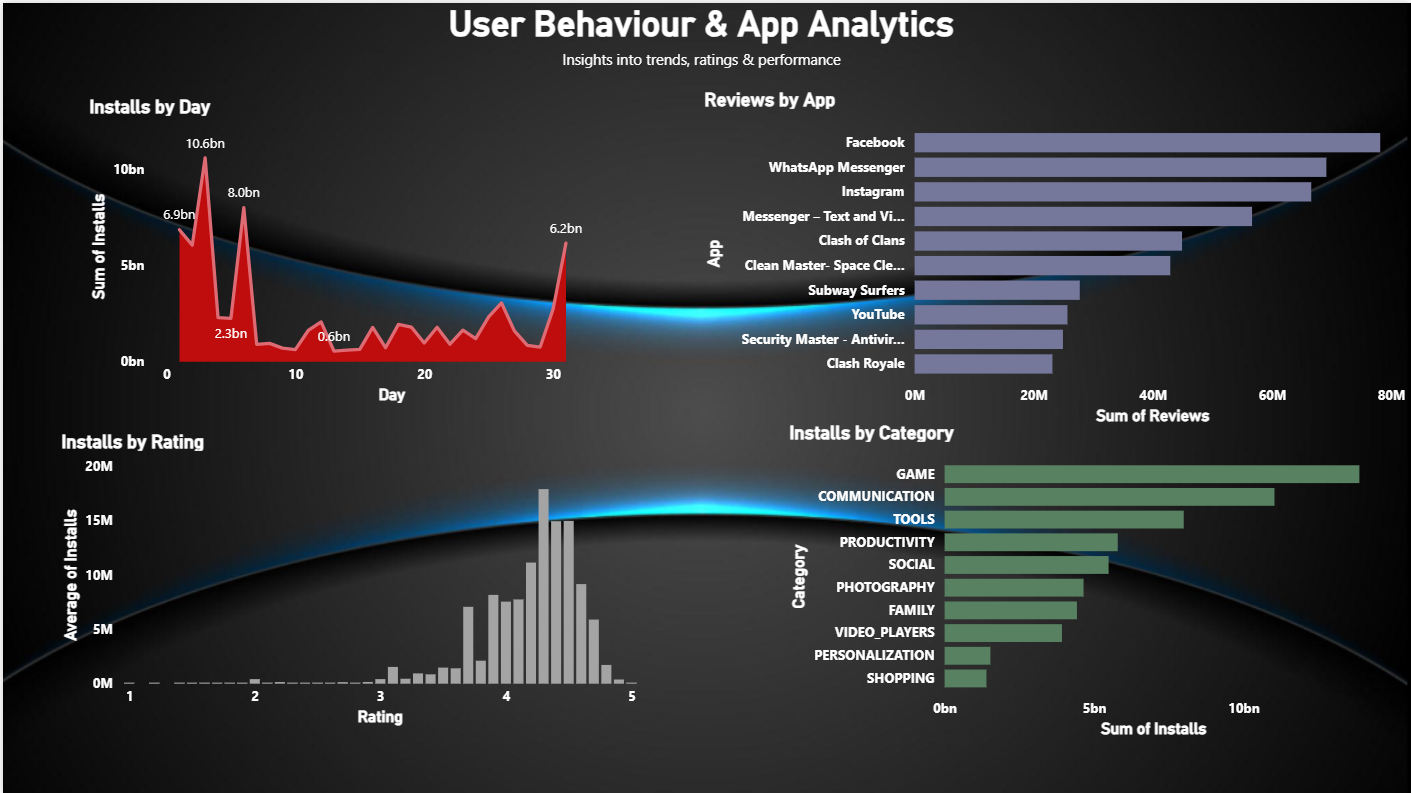

The dashboard page shown, as its layout file describes it:
{"tool":"powerbi","page":{"name":"Page 2","canvas":[1280,720],"ordinal":1},"visuals":[{"type":"textbox","title":"User Behaviour & App Analytics","box":[370,0,530,63.6],"z":0},{"type":"lineChart","title":"Installs by Day","fields":{"Category":["apps.Last Updated.Variation.Date Hierarchy.Day"],"Y":["Sum(apps.Installs)"]},"box":[73.6,83.6,500,285.5],"z":1},{"type":"clusteredBarChart","title":" Reviews by App","fields":{"Category":["apps.App"],"Y":["Sum(apps.Reviews)"]},"box":[632.7,77.3,647.3,310.9],"z":2},{"type":"columnChart","title":"Installs by Rating","fields":{"Category":["apps.Rating"],"Y":["Avg(apps.Installs)"]},"box":[48.2,388.2,532.7,273.6],"z":3},{"type":"clusteredBarChart","title":"Installs by Category","fields":{"Category":["apps.Category"],"Y":["Sum(apps.Installs)"]},"box":[710,380,546.4,292.7],"z":5}]}

Visuals, with their boxes in screenshot pixels (x1, y1, x2, y2), scaled from the page's 1280x720 canvas onto the 1411x793 screenshot:
"User Behaviour & App Analytics" textbox: <bbox>408, 0, 992, 70</bbox>
"Installs by Day" lineChart: <bbox>81, 92, 632, 407</bbox>
" Reviews by App" clusteredBarChart: <bbox>697, 85, 1410, 428</bbox>
"Installs by Rating" columnChart: <bbox>53, 428, 640, 729</bbox>
"Installs by Category" clusteredBarChart: <bbox>783, 419, 1385, 741</bbox>
